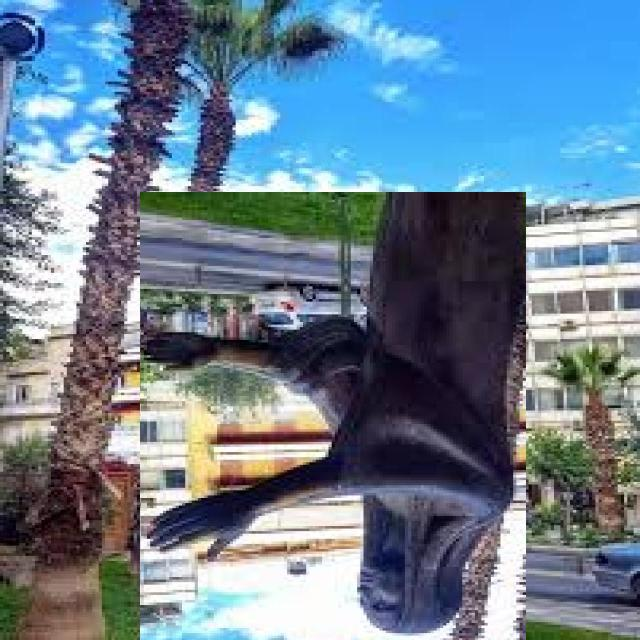Aretousa: (141, 193, 527, 640)
